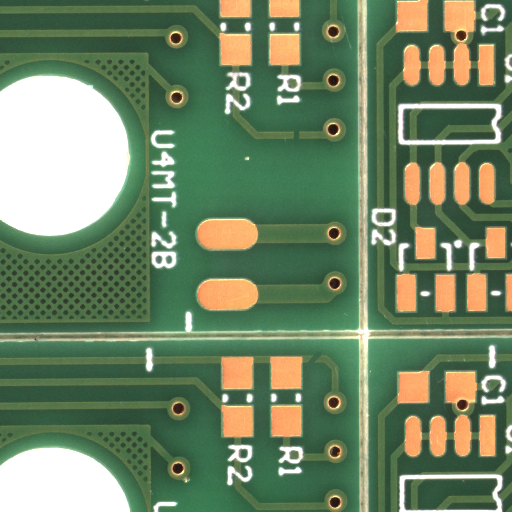Open_circuit: (314, 358, 329, 371), (296, 135, 303, 146)
